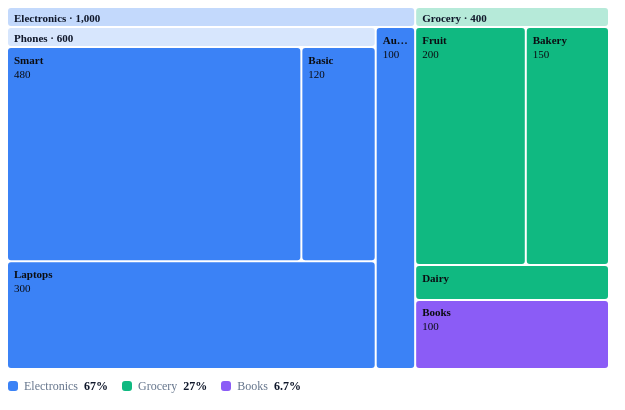
Test: TreemapChart › drills down into a category and back out
This screenshot has width=625, height=410.
Later steps or results of the test are not shown.
Click the icon with class "jc-surface".
click(308, 188)  # box [8,8,608,368]
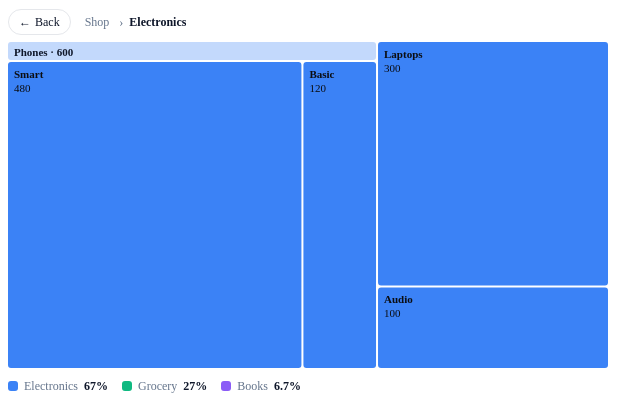
# Second level, then back up with the keyboard and the breadcrumb.
Click the icon with class "jc-surface".
click(308, 188)  # box [8,8,608,368]
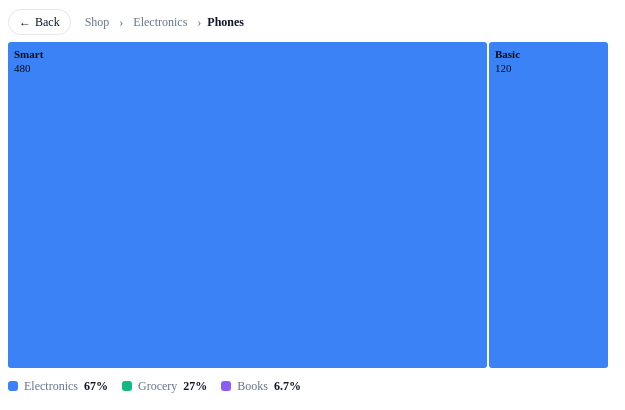
Press Backspace in the picture
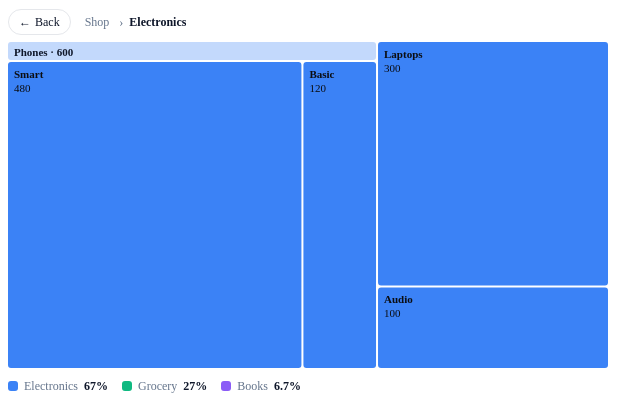
Click the button "Shop".
click(97, 22)  # box [81,12,113,32]
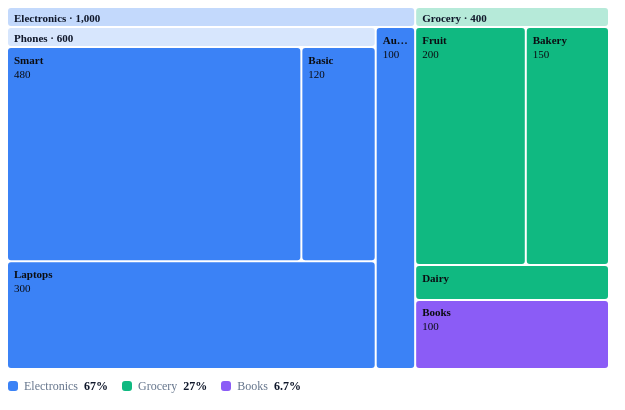
Expected: the navigation bar is gone
